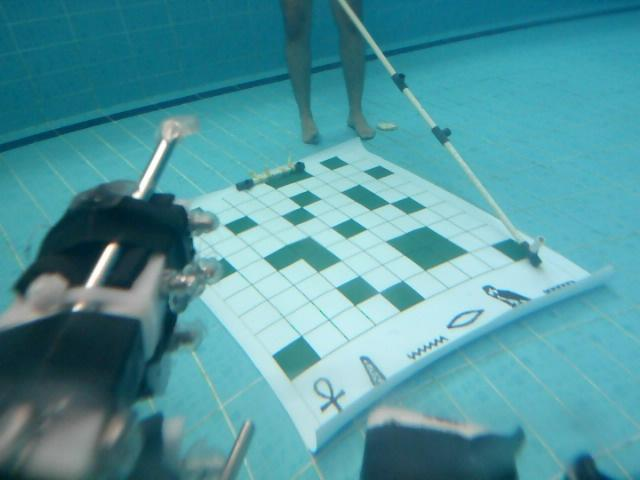Ankh: (302, 369, 347, 425)
Mouth: (446, 306, 484, 334)
Owl: (481, 282, 531, 309)
Reed: (356, 355, 397, 395)
Water: (404, 334, 449, 362)
